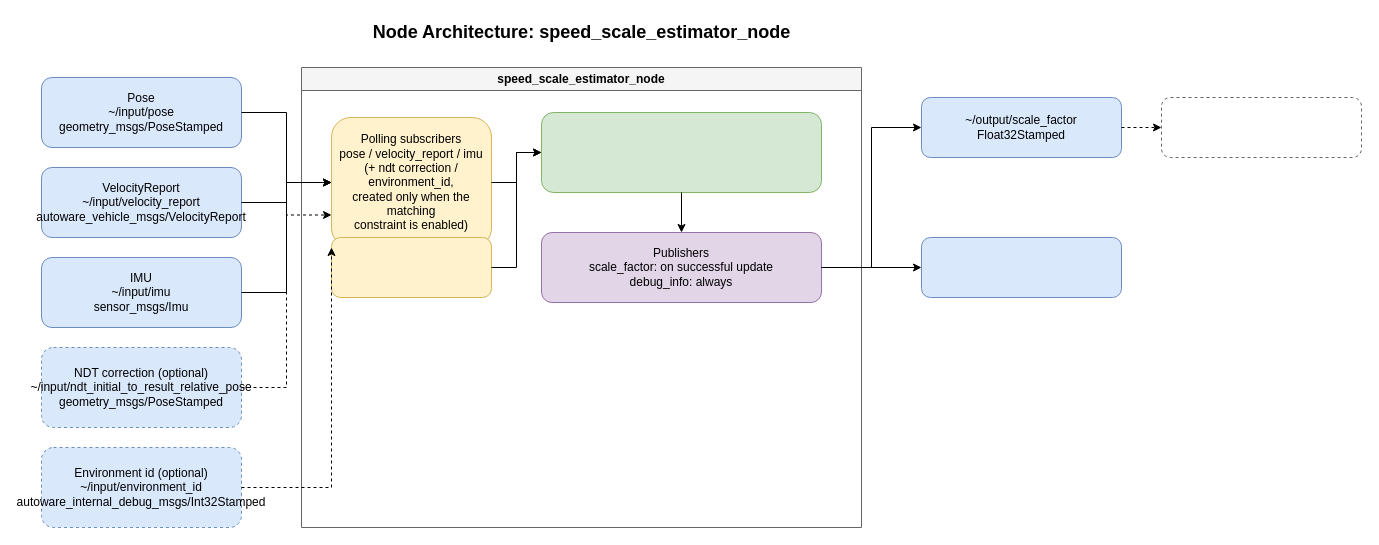
Image size: 1379x545. Some labels were removed from this diagram. The centre of each missing label's shape, as x and y in pixels:
"autoware_vehicle_velocity_converter monitor / tune speed scale" goes at pixel 1261 127.
"SpeedScaleEstimatorProcessor + SpeedScaleEstimator (see algorithm diagram)" goes at pixel 681 152.
"Timer update_interval" goes at pixel 411 267.
"~/output/debug_info StringStamped" goes at pixel 1021 267.
